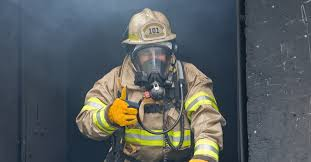emergent: (83, 7, 221, 161)
